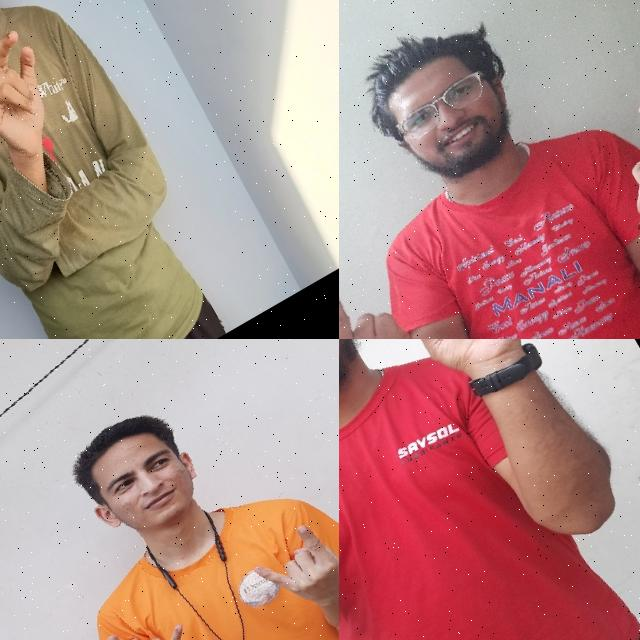Corna: (0, 15, 92, 185), (237, 503, 339, 632), (92, 596, 220, 640)
Middle Finger: (581, 67, 640, 256), (339, 245, 441, 339)
Okay: (376, 339, 585, 410)
